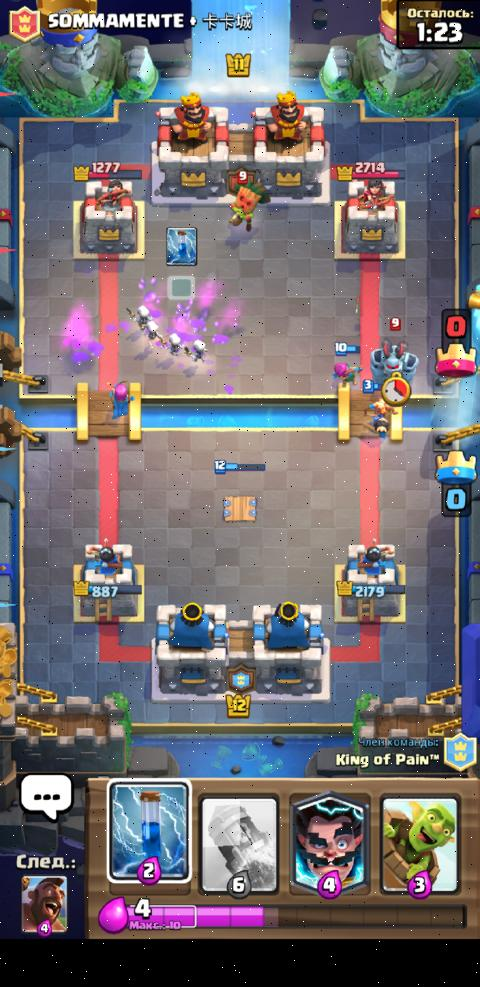EDartGoblin: (229, 170, 265, 231)
EKingTower: (152, 104, 228, 200), (251, 103, 324, 198)
EMegaM: (371, 341, 418, 388)
EnemyPrincessTower: (335, 171, 405, 258), (80, 176, 136, 252)
OArcher: (333, 342, 362, 389), (110, 382, 139, 422)
OLarry: (159, 332, 189, 355), (140, 316, 162, 345), (128, 305, 151, 328), (192, 339, 210, 364)
OPrincess: (361, 398, 402, 440)
OTesla: (222, 496, 256, 521)
OwnKingTower: (152, 602, 228, 700), (253, 602, 329, 700)
OwnPrincessTower: (74, 541, 143, 621), (336, 541, 404, 621)
